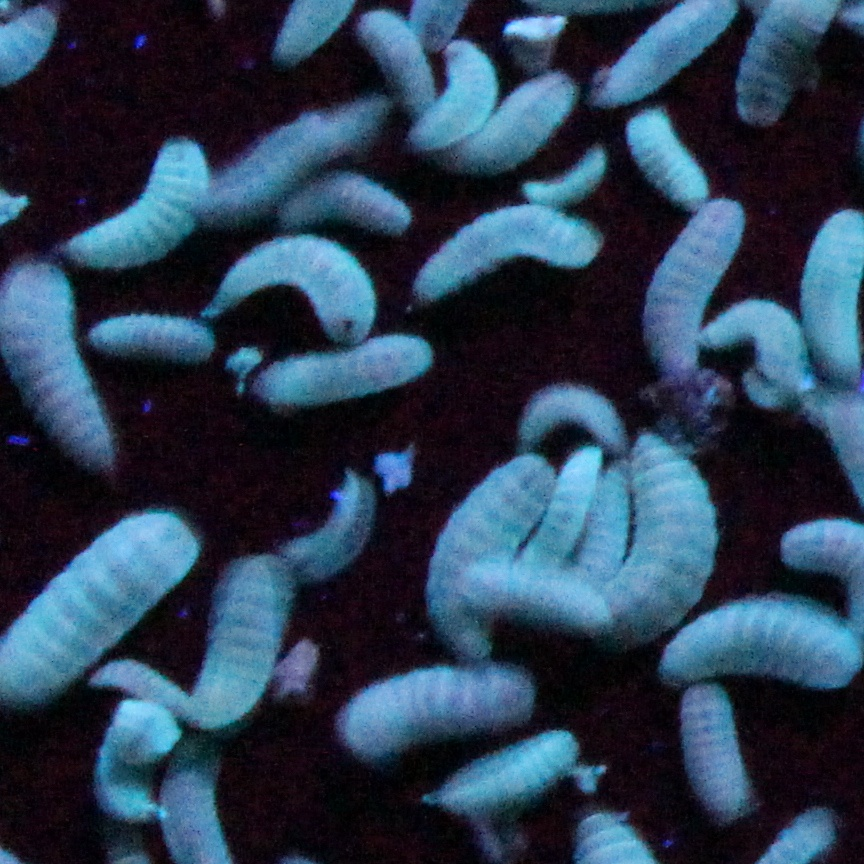larve: (7, 508, 202, 711), (424, 457, 563, 655), (604, 430, 719, 645), (195, 101, 385, 221), (4, 267, 114, 464), (636, 194, 746, 379), (178, 560, 297, 730), (336, 667, 543, 762), (60, 140, 212, 269), (419, 206, 604, 303), (212, 238, 380, 342), (260, 330, 436, 411), (458, 72, 578, 179), (460, 552, 609, 635), (431, 733, 580, 813), (280, 469, 380, 584), (409, 42, 499, 160), (678, 682, 756, 818), (519, 447, 604, 569), (95, 701, 173, 821), (348, 8, 436, 113), (626, 106, 717, 206), (524, 386, 631, 452), (578, 447, 634, 572), (280, 177, 407, 228), (92, 313, 219, 362), (92, 657, 195, 711), (526, 155, 604, 199)
